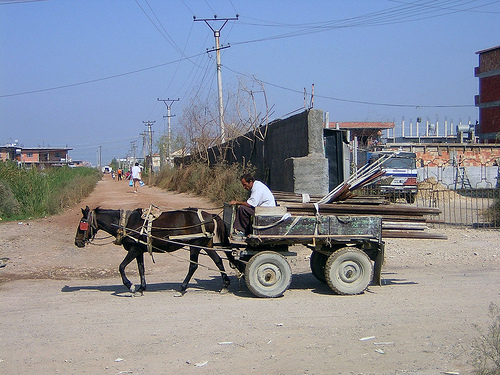horse: (73, 205, 230, 298)
